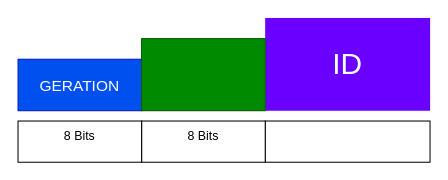
This 448x180 diagram has some shape labels left out. Here are the shapes that lost their labels. From the top down, the box of each, then its label:
(141, 38, 265, 111): TYPE
(264, 120, 430, 162): 16 Bits
